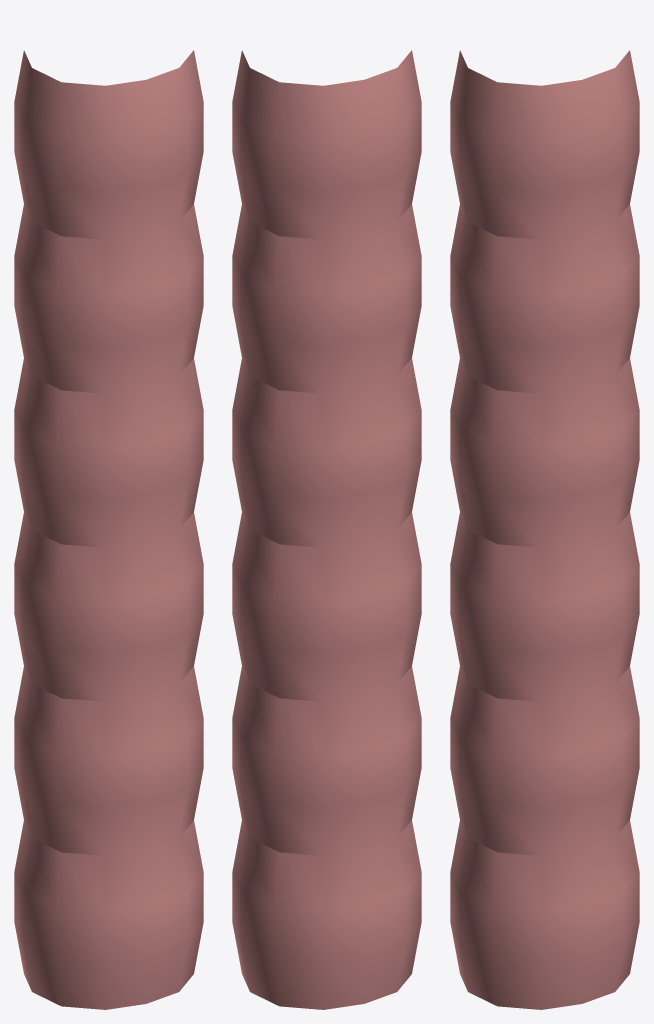
The model's file is gut_rope.glb.
3 renders of one model, left to right at view 1: azimuth 30°, elevation 25°; view 2: azimuth 150°, elevation 25°; view 3: azimuth 270°, elevation 25°, orthographic.
Visible parts, largest first — view 1: OUT; view 2: OUT; view 3: OUT.
Boxes of the visible parts, x1,y1,x2,y2 form: OUT: [14, 50, 203, 1009]; OUT: [232, 50, 421, 1009]; OUT: [450, 50, 639, 1009].
Bounding box in the file's own units: 0.0556 × 0.3 × 0.0556.
